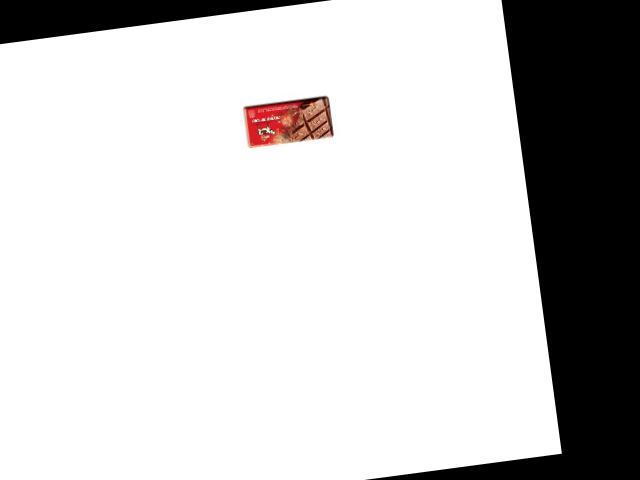chocolate: (241, 93, 336, 150)
